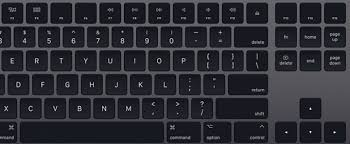keyboard: (0, 4, 349, 144)
